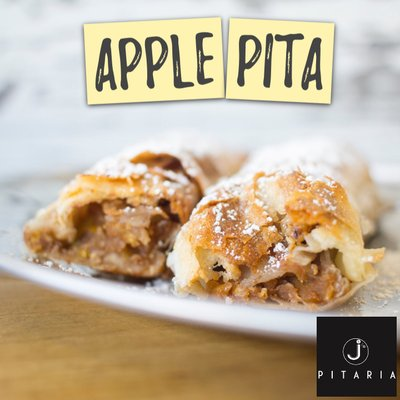salad: (23, 146, 207, 280)
